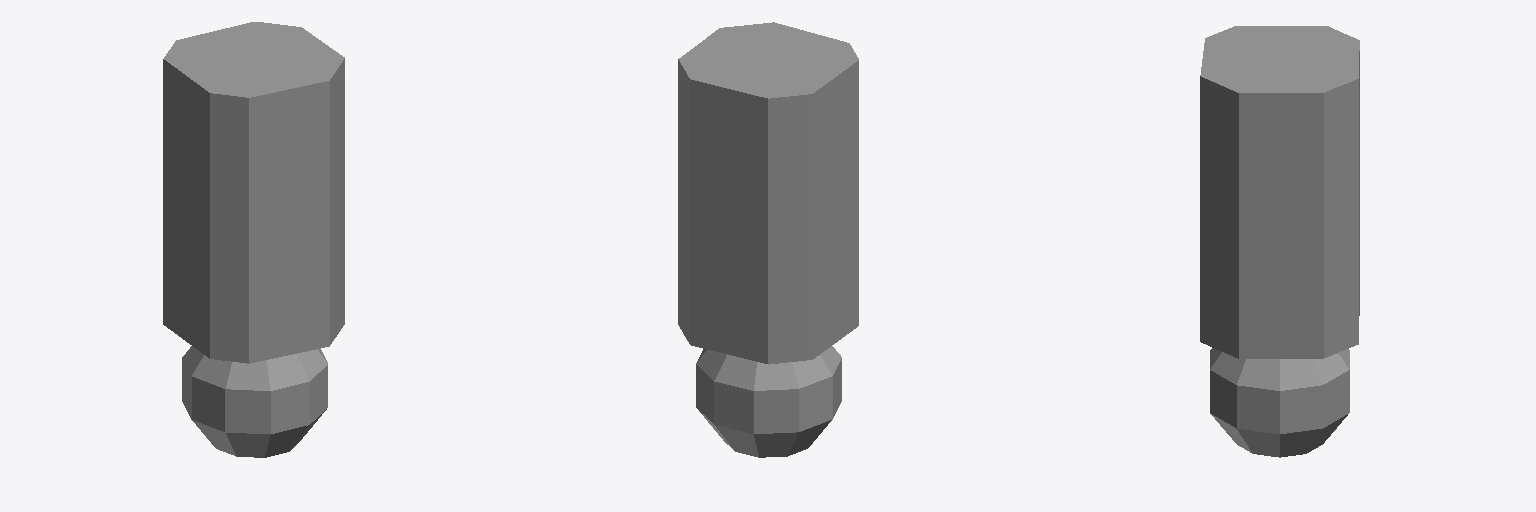
The model's file is PokeballStatue.obj.
3 views of the same model, side by side, from view 1: azimuth 30°, elevation 25°; view 2: azimuth 150°, elevation 25°; view 3: azimuth 270°, elevation 25° (orthographic).
Parts seen in each view (by area): view 1: Sphere001; view 2: Sphere001; view 3: Sphere001.
Boxes of the visible parts, x1,y1,x2,y2 form: Sphere001: [163, 22, 344, 457]; Sphere001: [678, 22, 858, 457]; Sphere001: [1200, 26, 1359, 457].
Size of the model in its own units: 1.06 by 2.91 by 1.07.